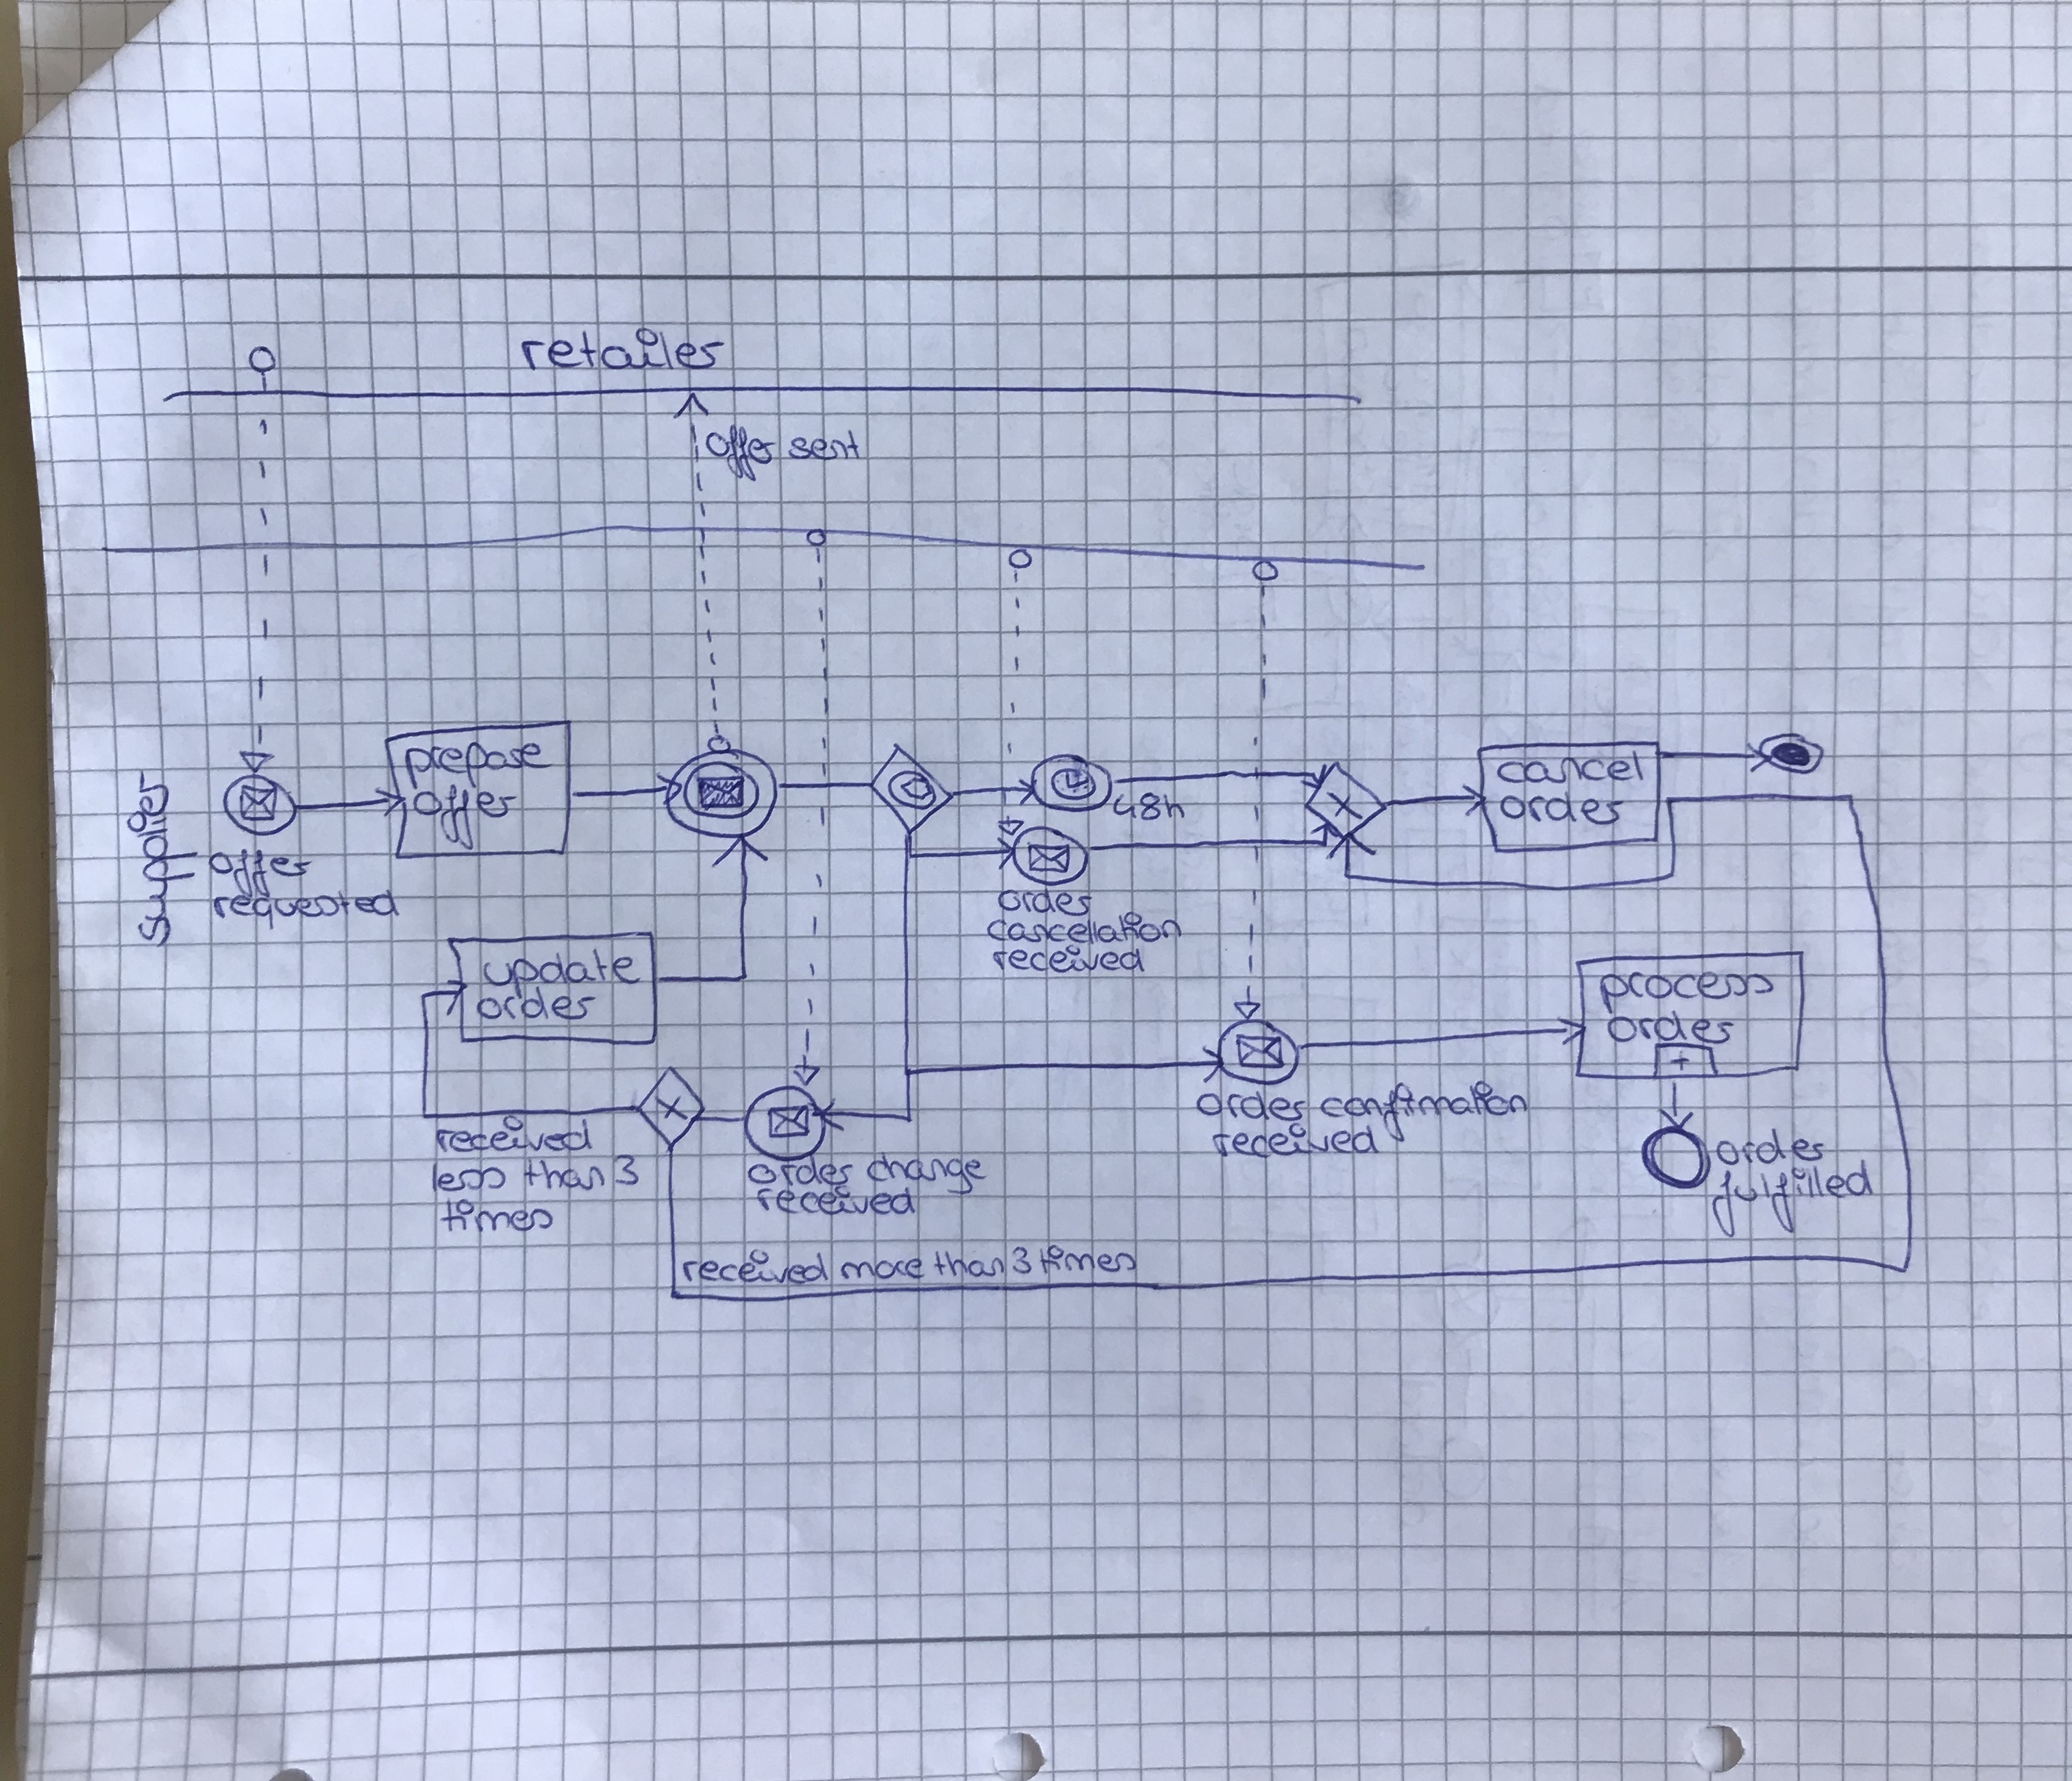3: (1010, 1240, 1029, 1279), (617, 1156, 638, 1186)
48h: (1108, 787, 1188, 823)
cancel: (1499, 747, 1639, 794)
cancellation: (990, 914, 1179, 946)
change: (867, 1152, 983, 1191)
confirmation: (1318, 1083, 1531, 1124)
fulfilled: (1707, 1166, 1869, 1235)
less: (423, 1156, 520, 1200)
more: (842, 1251, 925, 1282)
offer: (407, 780, 527, 833), (210, 837, 314, 879), (707, 416, 777, 477)
order: (465, 985, 615, 1027), (747, 1150, 867, 1201), (1193, 1083, 1313, 1126), (1602, 1008, 1735, 1045), (1718, 1129, 1822, 1163), (997, 879, 1094, 911), (1498, 800, 1628, 821)
prepare: (391, 731, 548, 775)
process: (1600, 967, 1771, 1009)
received: (423, 1113, 617, 1161), (985, 932, 1158, 981), (1217, 1117, 1378, 1164), (752, 1179, 918, 1219), (680, 1251, 830, 1286)
requested: (208, 888, 396, 921)
retailer: (518, 321, 728, 377)
sent: (782, 426, 863, 472)
supplier: (123, 772, 185, 946)
than: (511, 1157, 622, 1194), (939, 1247, 994, 1281)
times: (423, 1194, 569, 1238), (1036, 1240, 1138, 1281)
update: (481, 941, 643, 985)
